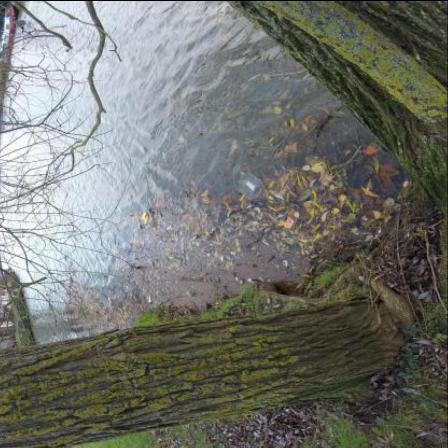Bottle cap: (294, 245, 298, 249)
Plastic container: (237, 173, 263, 201)
Unlabeled litter: (285, 217, 295, 229), (188, 290, 197, 298), (151, 297, 154, 305)
